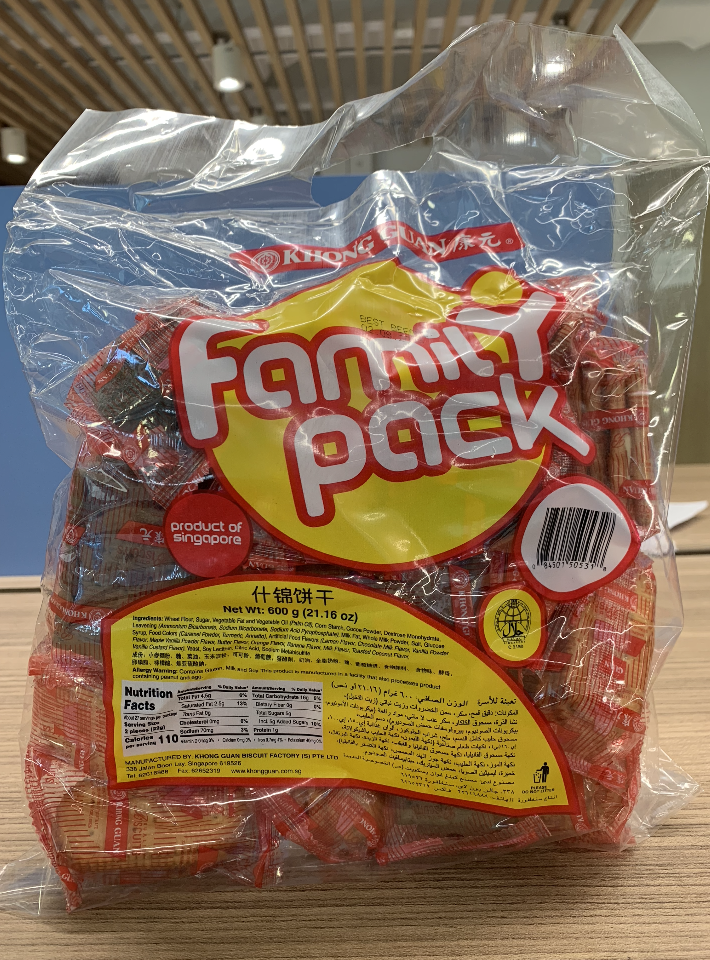cookies_550g: (84, 289, 636, 818)
